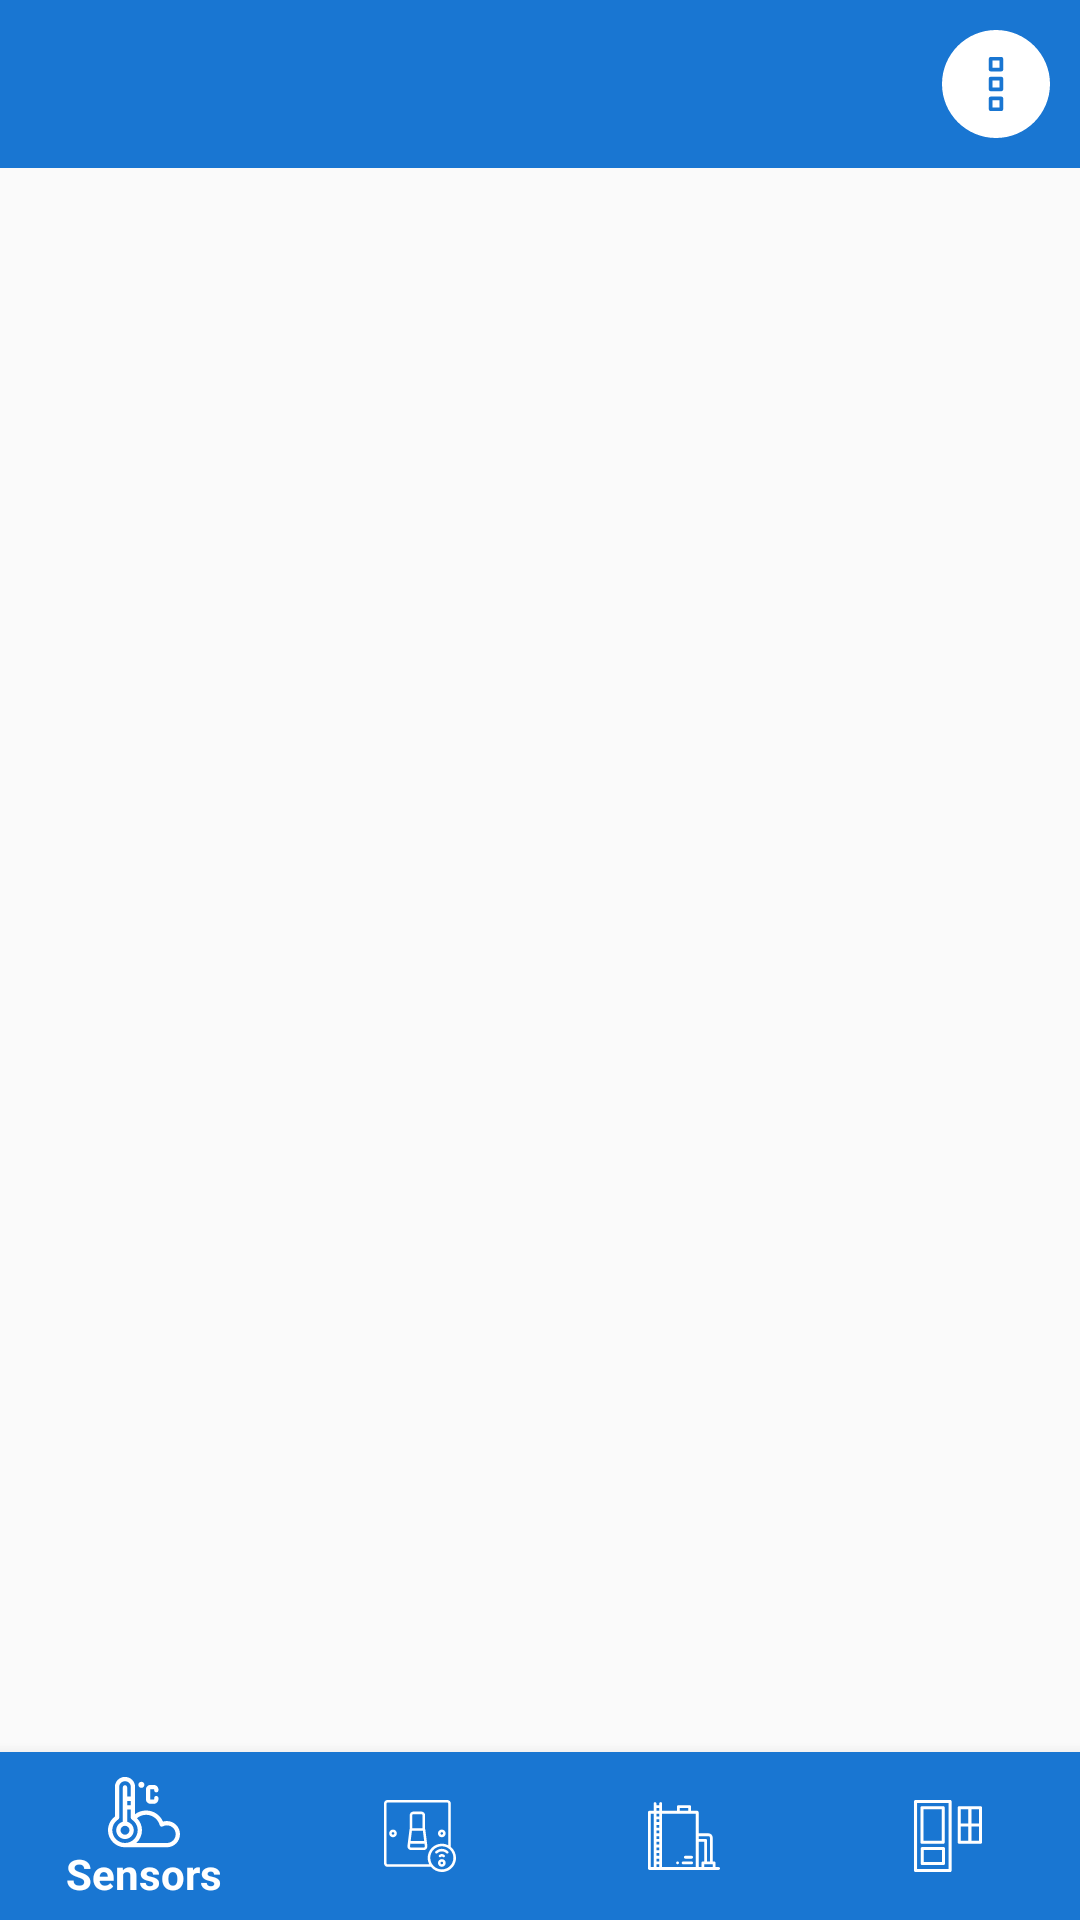

Icons on this 1080x1920 Android screen, each with the point to tap as [x,y]:
menu: [996,84]
